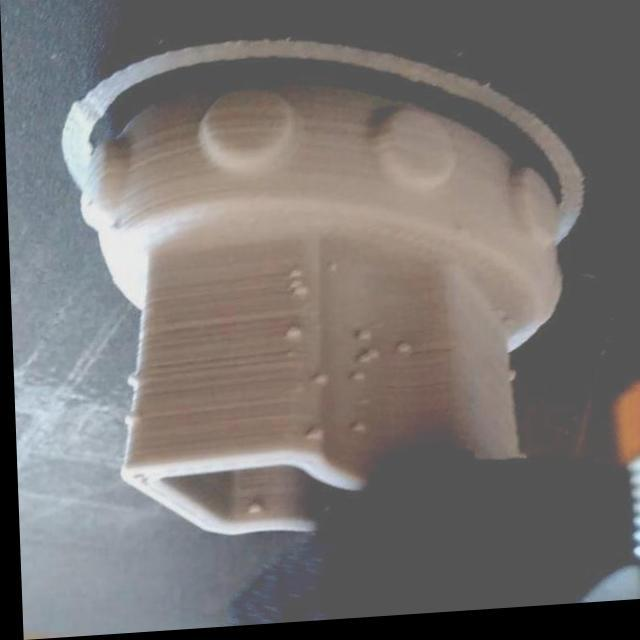zits: (342, 368, 373, 392), (389, 338, 414, 365), (294, 427, 323, 450), (288, 286, 312, 311), (494, 372, 518, 397), (354, 350, 381, 372), (344, 422, 373, 441), (350, 327, 376, 348), (118, 411, 140, 435), (306, 374, 330, 396), (277, 327, 302, 346), (283, 270, 305, 289), (120, 375, 142, 392), (242, 500, 259, 518)
